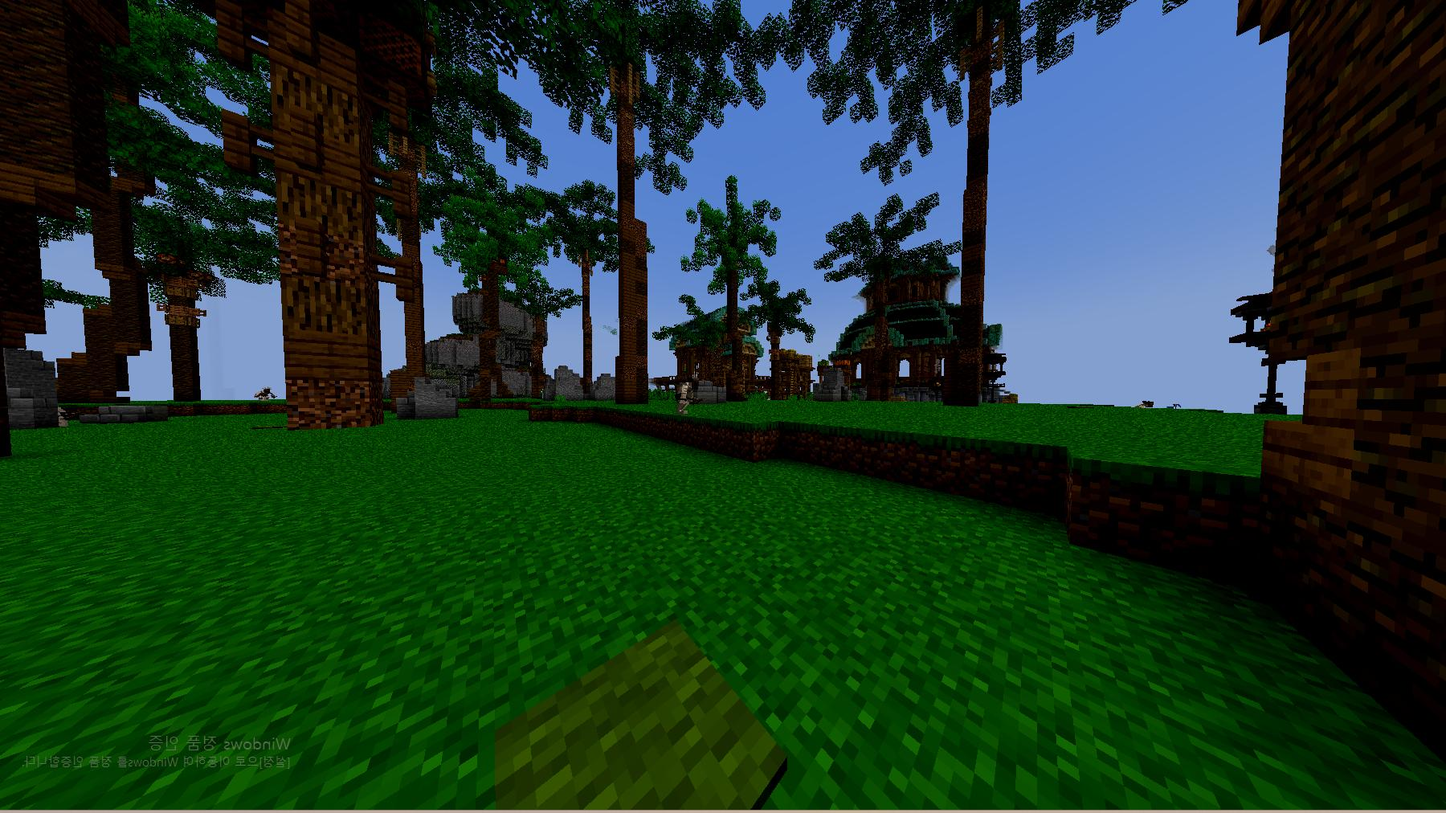bow_indian: (659, 371, 702, 423)
